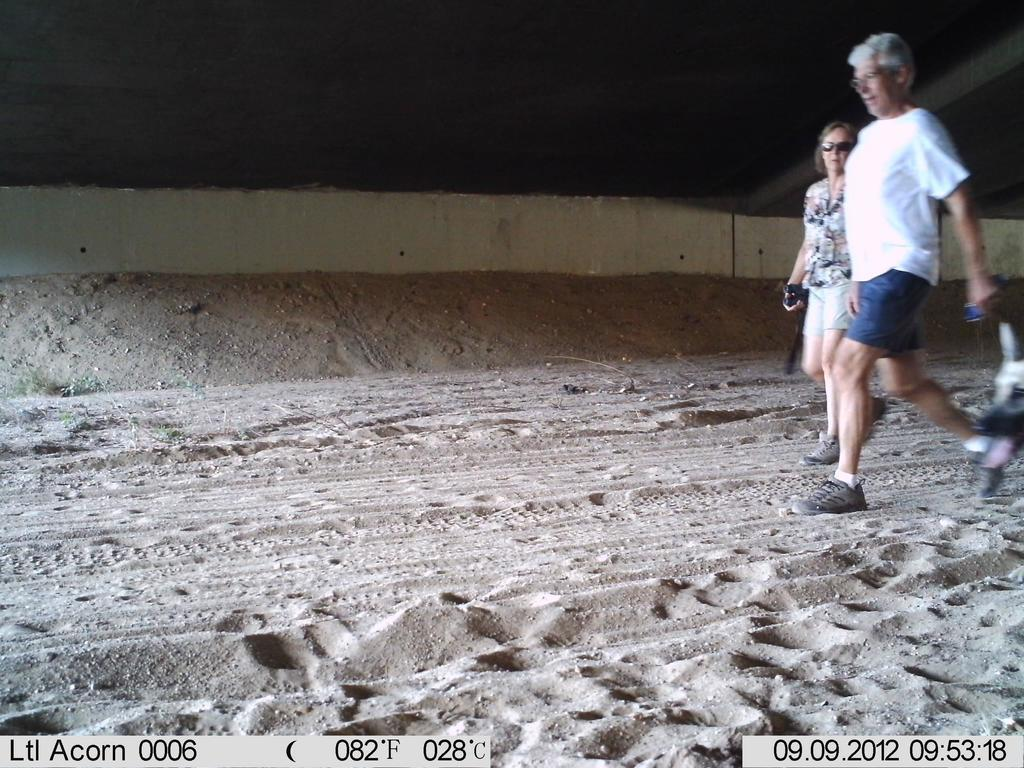dog: (963, 314, 1023, 507)
